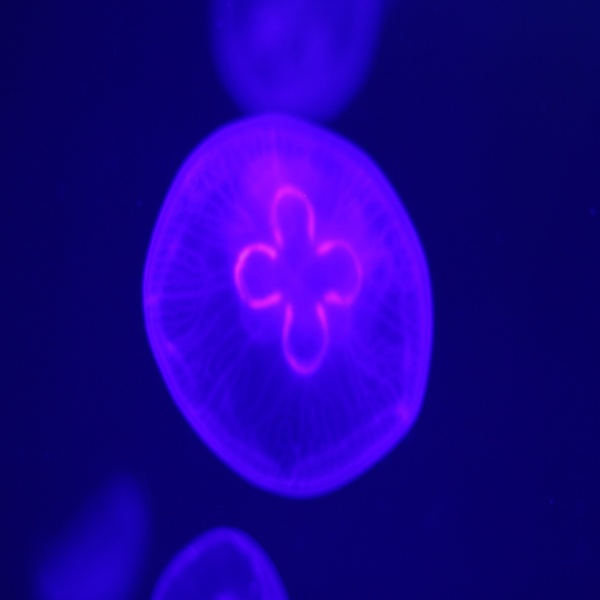Jellyfish: (138, 108, 436, 502), (208, 0, 382, 121), (148, 529, 285, 599)
